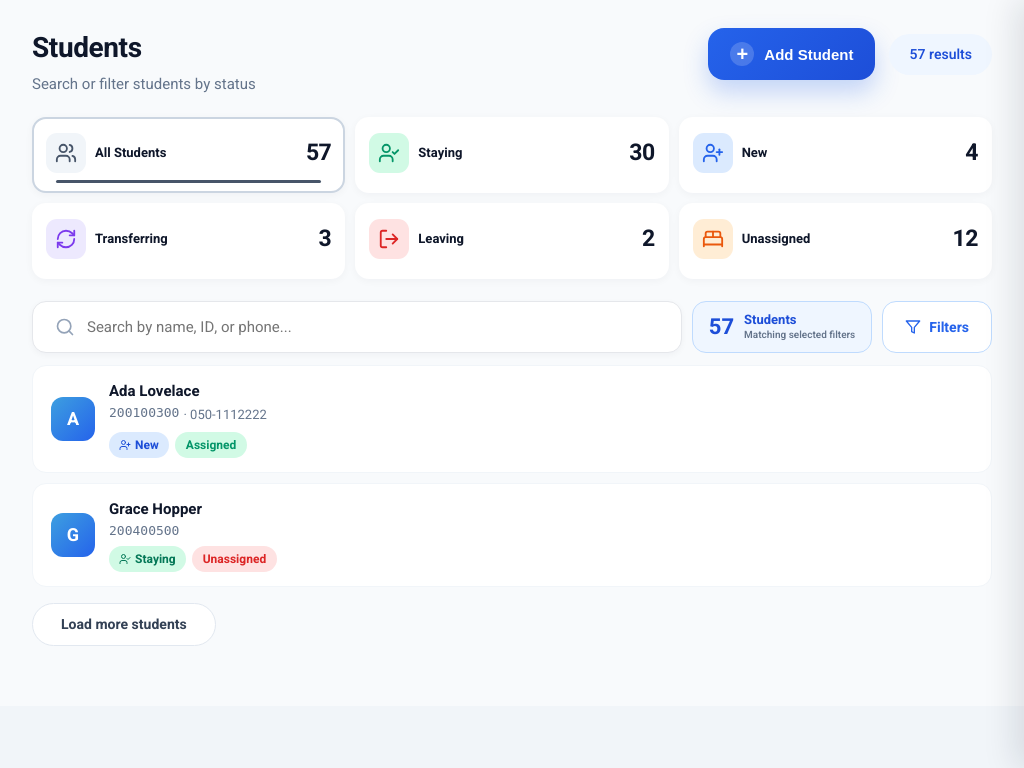
StudentsPage query parameters › sends a search term only once it is long enough, and only once per pause
Check: the text "Ada Lovelace" is shown, box [109,380,200,402]
Type "a" into the field with placeholder "Search by name, ID, or phone..." at [373, 327], box [87,316,659,338]
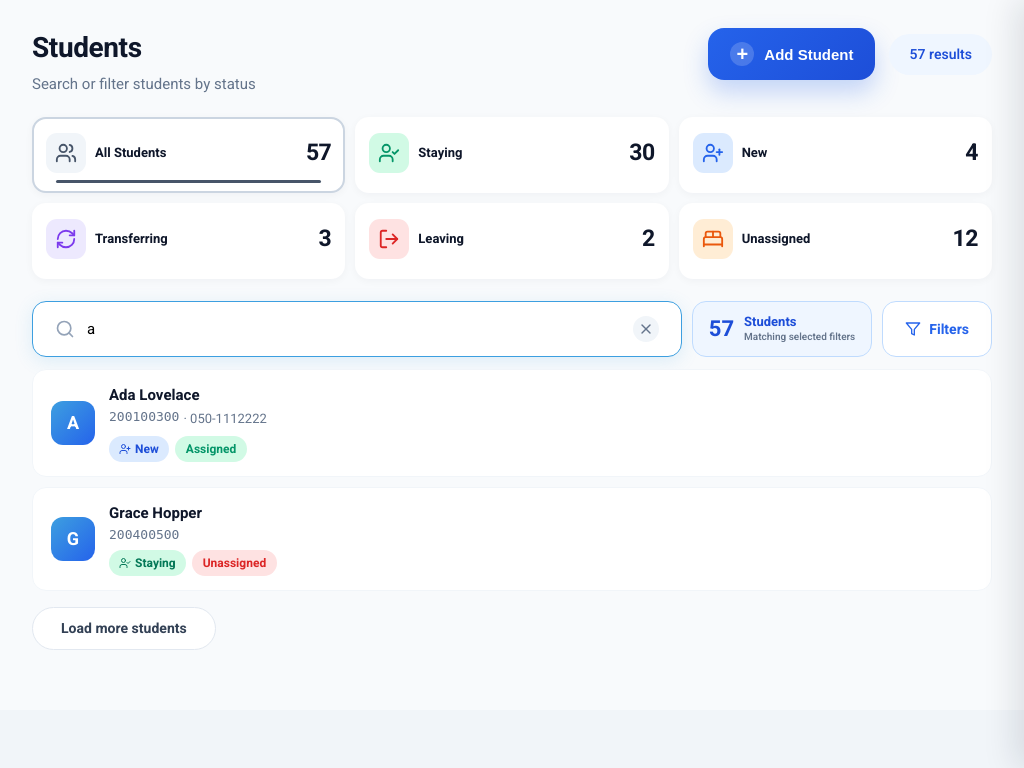
Type "da" into the field with placeholder "Search by name, ID, or phone..." at [354, 329], box [87,318,621,340]
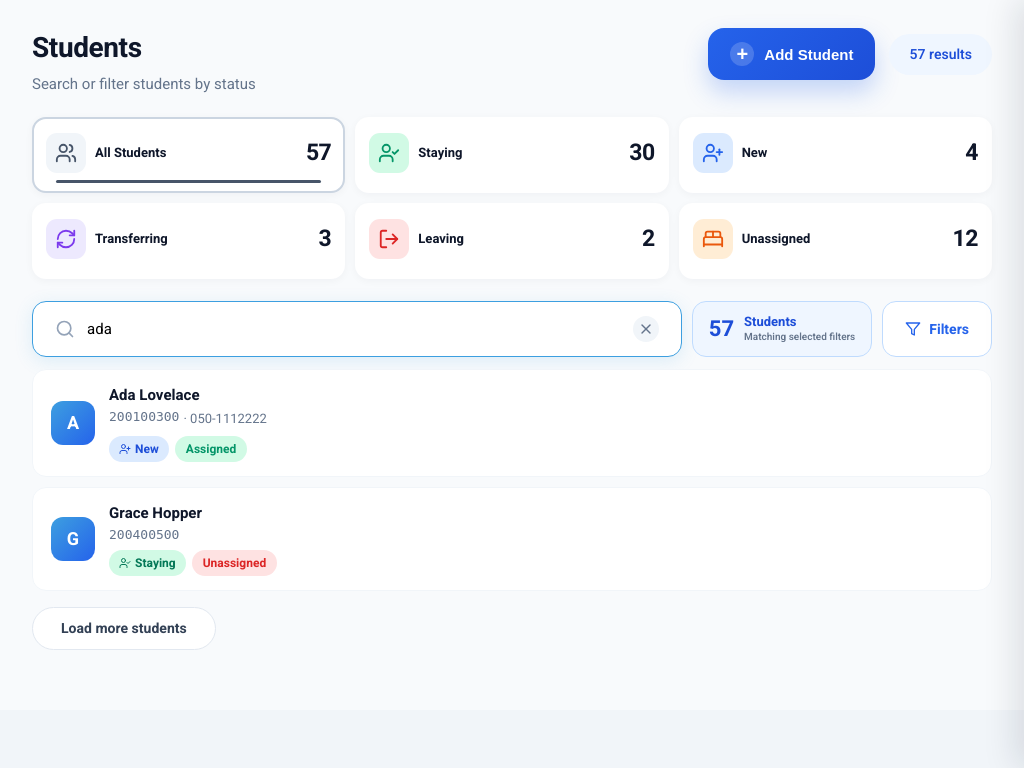
Check: the field with placeholder "Search by name, ID, or phone..." holds "ada", box [87,318,621,340]
